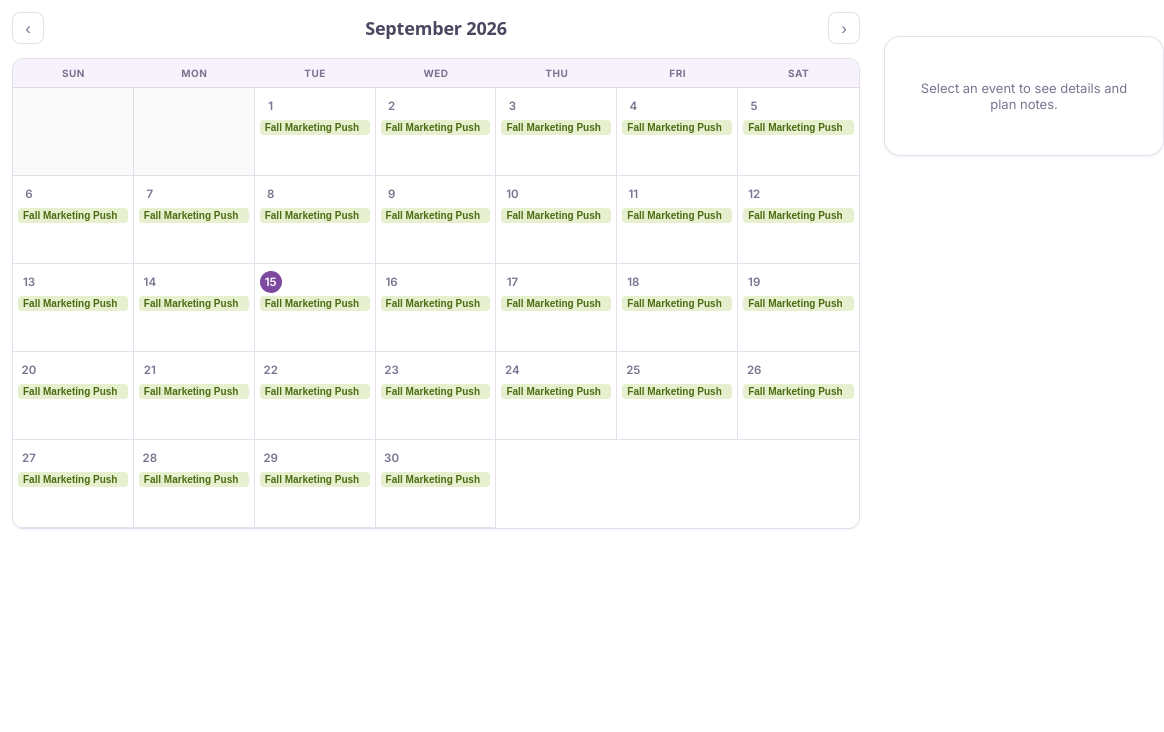
it: CalendarView › opens the detail panel when an event chip is clicked
Click the 1st button "Fall Marketing Push": [315, 128] box [260,120,370,135]
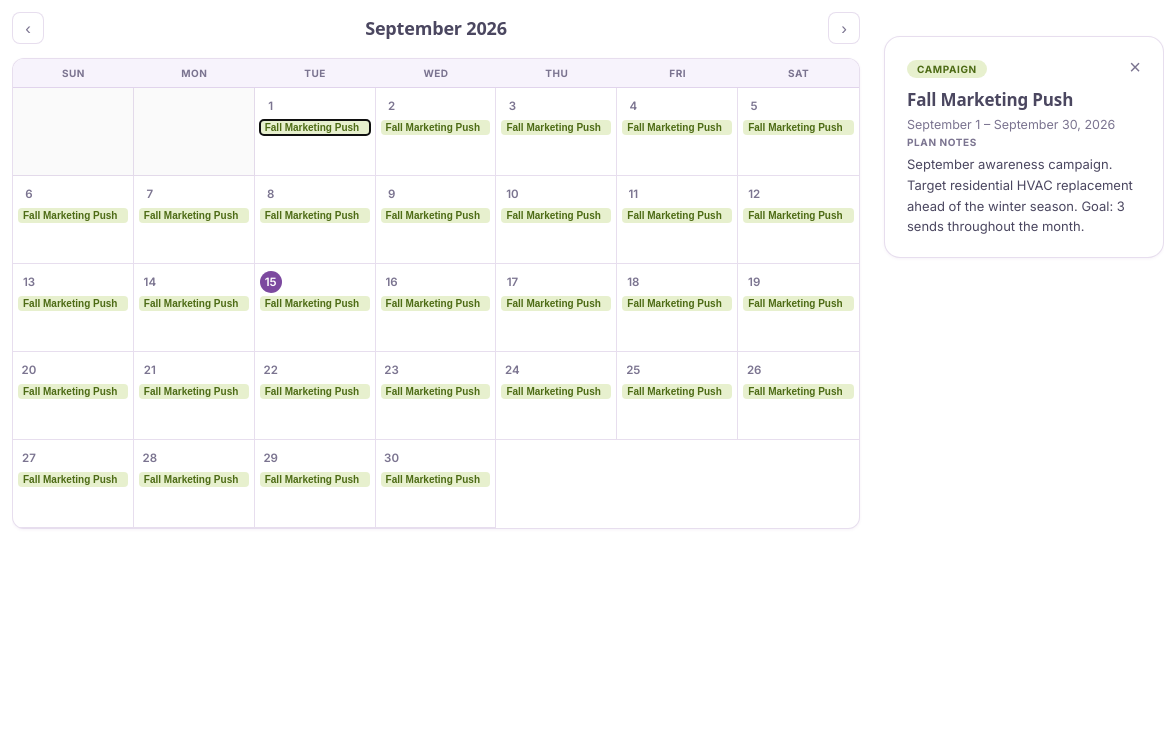
Expected: the text "Plan Notes" is shown, [907,136,977,148]
Expected: the text "September awareness campaign" is shown, [907,156,1133,234]
